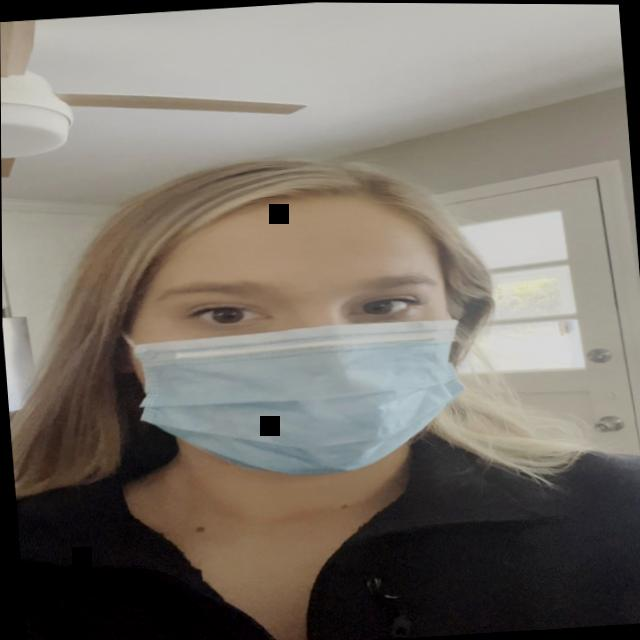Mask: (69, 167, 512, 509)
